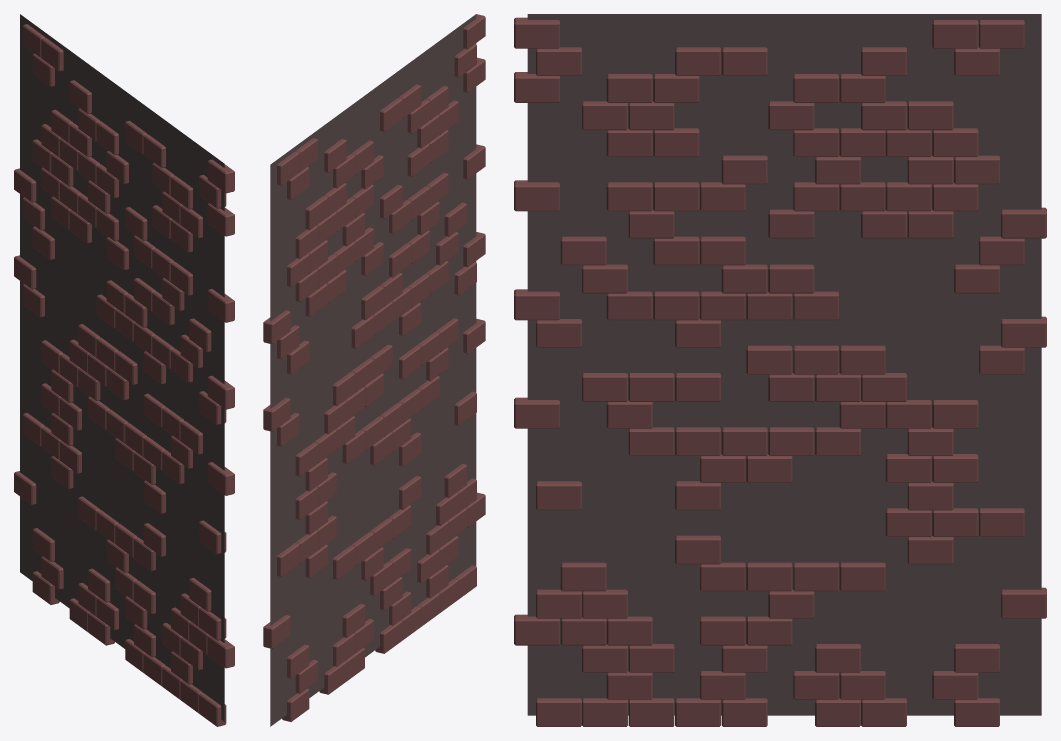
Rendered from Pared_Ladrillos_03.fbx.
3 renders of one model, left to right at view 1: azimuth 30°, elevation 25°; view 2: azimuth 150°, elevation 25°; view 3: azimuth 270°, elevation 25°, orthographic. The views are drawn at different scales.
Visible parts, largest first — view 1: Muro, Losa_0619, Losa_0655, Losa_0641, Losa_0683, Losa_0661, Losa_0575, Losa_0553, Losa_0596, Losa_0574, Losa_0662, Losa_0629 (+112 smaller); view 2: Muro, Losa_0748, Losa_0750, Losa_0755, Losa_0683, Losa_0655, Losa_0619, Losa_0641, Losa_0549, Losa_0439, Losa_0441, Losa_0693 (+112 smaller); view 3: Muro, Losa_0641, Losa_0683, Losa_0476, Losa_0524, Losa_0623, Losa_0642, Losa_0687, Losa_0689, Losa_0724, Losa_0584, Losa_0696 (+112 smaller).
Boxes of the visible parts, x1,y1,x2,y2 form: Muro: (20,14,224,721); Losa_0619: (207,462,234,495); Losa_0655: (207,159,234,193); Losa_0641: (207,375,234,409); Losa_0683: (207,289,234,322); Losa_0661: (207,203,234,236); Losa_0575: (207,635,234,668); Losa_0553: (199,693,226,726); Losa_0596: (199,520,226,554); Losa_0574: (199,607,226,640); Losa_0662: (199,175,226,208); Losa_0629: (199,391,226,424); Muro: (270,14,476,726); Losa_0748: (263,310,290,344); Losa_0750: (263,397,290,431); Losa_0755: (263,615,290,648); Losa_0683: (463,144,485,179); Losa_0655: (463,14,485,49); Losa_0619: (463,318,485,353); Losa_0641: (463,232,485,267); Losa_0549: (375,620,402,653); Losa_0439: (282,688,309,721); Losa_0441: (319,661,346,694); Losa_0693: (380,185,402,218); Muro: (527,14,1041,715); Losa_0641: (514,289,559,320); Losa_0683: (514,180,559,211); Losa_0476: (839,562,885,591); Losa_0524: (839,345,885,374); Losa_0623: (746,345,792,374); Losa_0642: (768,264,814,293); Losa_0687: (606,182,652,211); Losa_0689: (653,182,699,211); Losa_0724: (907,101,953,130); Losa_0584: (560,562,606,591); Losa_0696: (560,236,606,265).
Bounding box in the file's own units: 0.3387 × 18.22 × 12.39.
